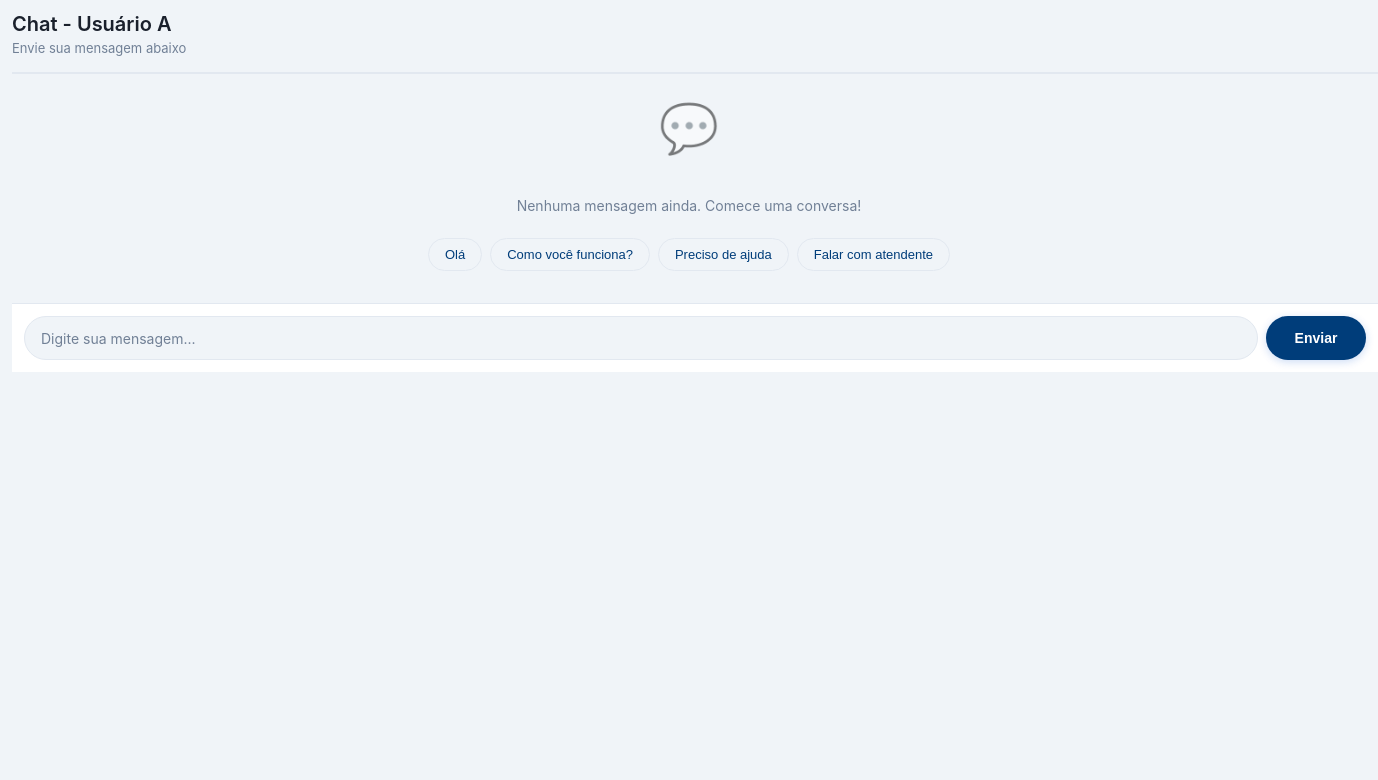
ChatScreen Component › mostra toast de erro ao falhar envio
This screenshot has width=1378, height=780.
Type "<script>" into the field with placeholder "Digite sua mensagem...".
click(641, 338); type("<script>")  # box x1=24 y1=316 x2=1258 y2=360
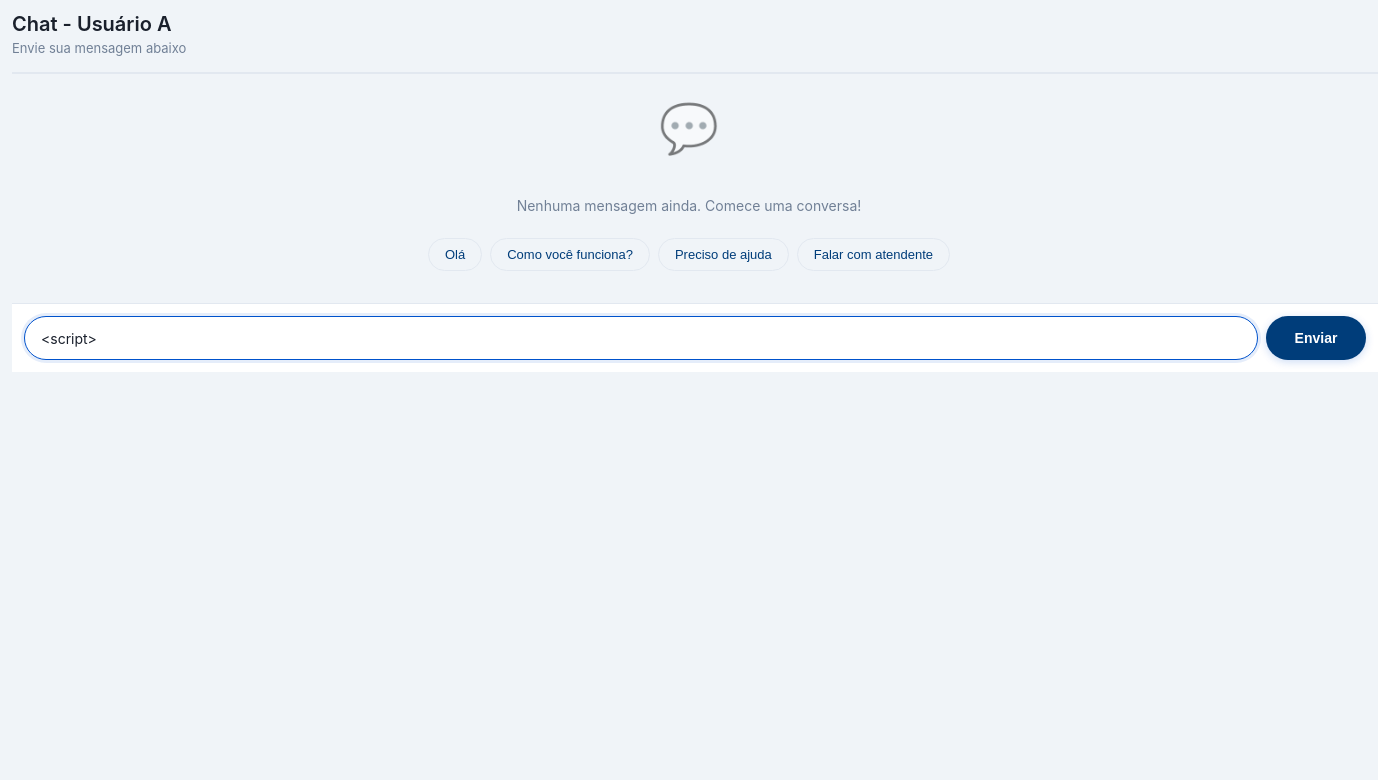
Click the button "Enviar".
click(1316, 338)  # box x1=1266 y1=316 x2=1366 y2=360
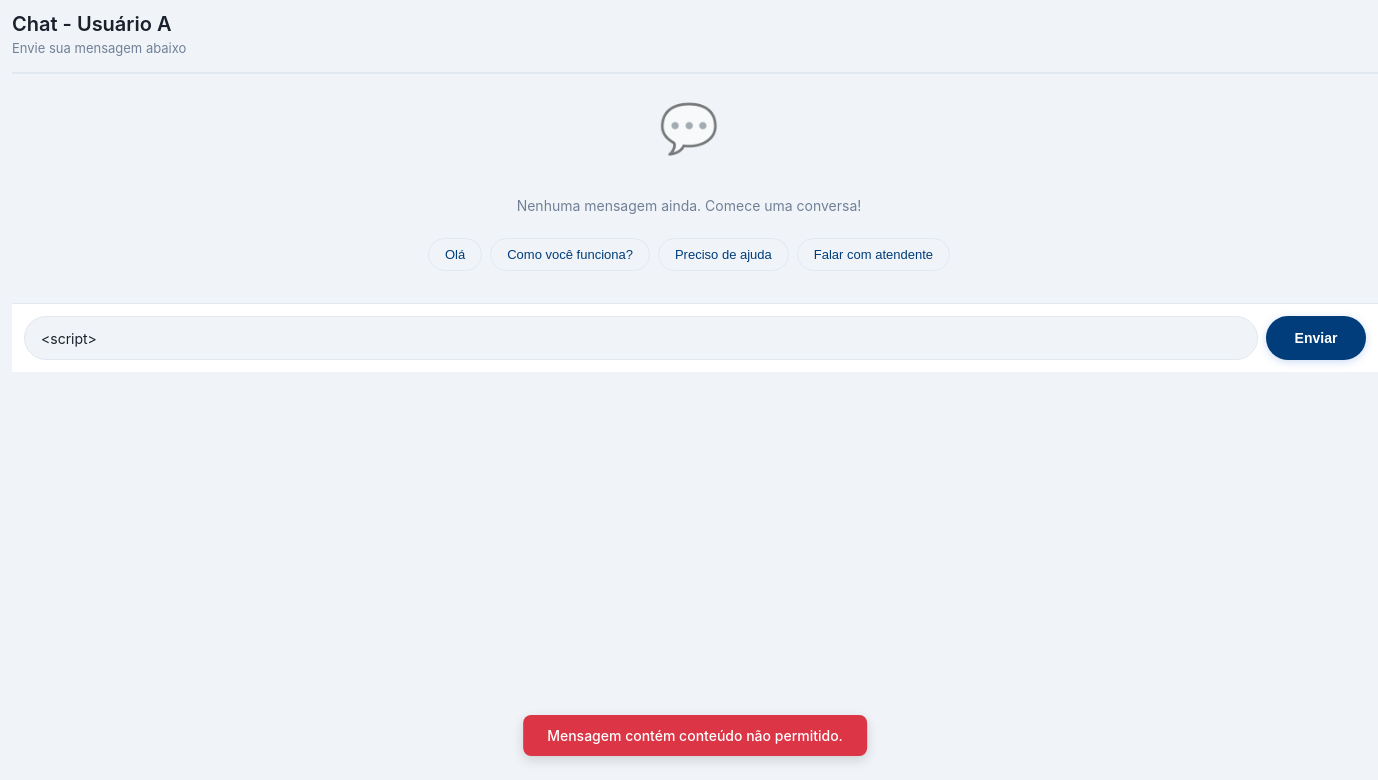
Now the text "Mensagem contém conteúdo não permitido." is shown, box x1=523 y1=715 x2=867 y2=756
